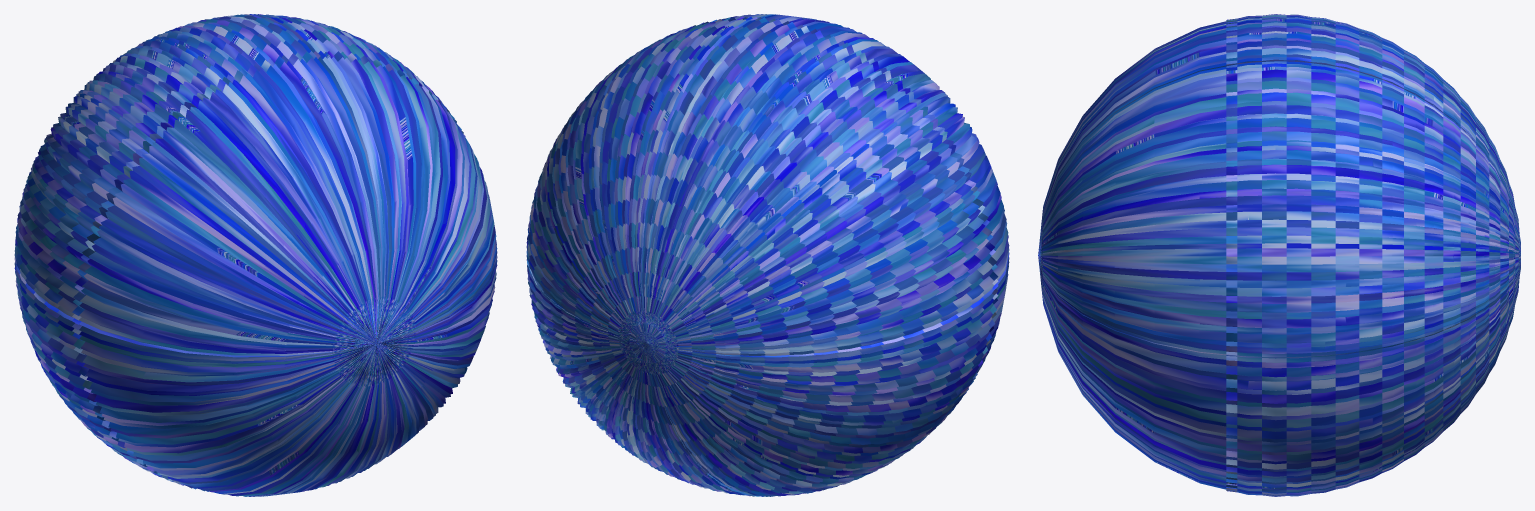
File: uuon-einstein-absolute-magnitude.glb
The picture shows the model from 3 angles, left to right: view 1: azimuth 30°, elevation 25°; view 2: azimuth 150°, elevation 25°; view 3: azimuth 270°, elevation 25°; orthographic projection.
Visible parts, largest first — view 1: einstein_absolute_magnitude_solid; view 2: einstein_absolute_magnitude_solid; view 3: einstein_absolute_magnitude_solid.
Part boxes in pixels (bbox=[...]): einstein_absolute_magnitude_solid: bbox=[14, 14, 497, 496]; einstein_absolute_magnitude_solid: bbox=[526, 14, 1009, 496]; einstein_absolute_magnitude_solid: bbox=[1038, 14, 1520, 496].
Bounding box in the file's own units: 27.41 × 27.41 × 27.39.
Materials: 1 (1 with a texture image).
